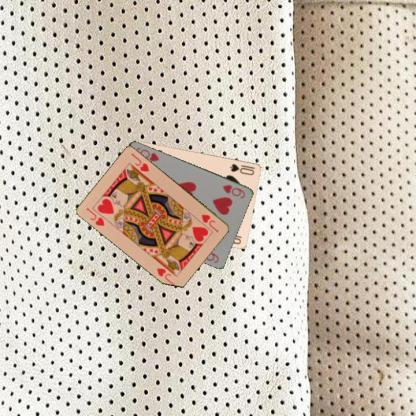10s: (228, 161, 256, 176)
6h: (220, 182, 247, 199)
Jh: (84, 205, 106, 227), (199, 211, 220, 234)
